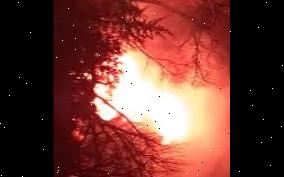fire: (86, 47, 156, 140)
